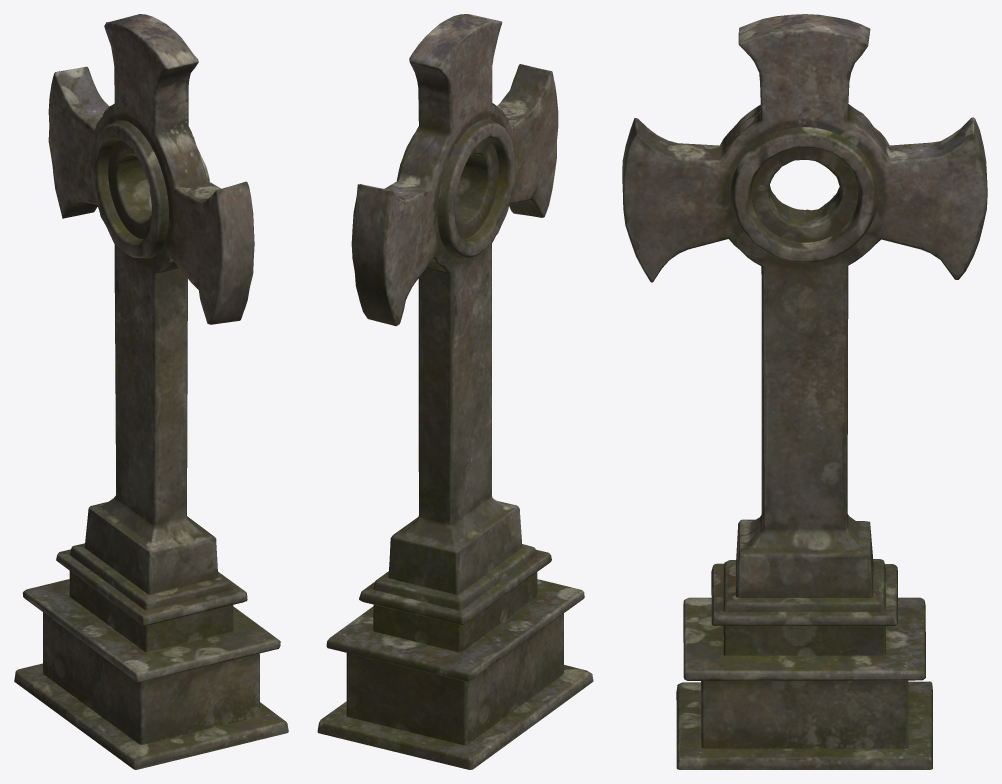
Rendered from SM_TombsB_001.fbx.
The picture shows the model from 3 angles, left to right: view 1: azimuth 30°, elevation 25°; view 2: azimuth 150°, elevation 25°; view 3: azimuth 270°, elevation 25°; orthographic projection. The views are drawn at different scales.
Parts seen in each view (by area): view 1: SM_TombsB_001_LOD0; view 2: SM_TombsB_001_LOD0; view 3: SM_TombsB_001_LOD0.
Part boxes in pixels (box(x1,y1,x2,y2)): SM_TombsB_001_LOD0: box(14, 14, 288, 769); SM_TombsB_001_LOD0: box(317, 14, 593, 769); SM_TombsB_001_LOD0: box(622, 14, 987, 769).
Size of the model in its own units: 26.88 by 52.37 by 112.
Materials: 1 (1 with a texture image).
